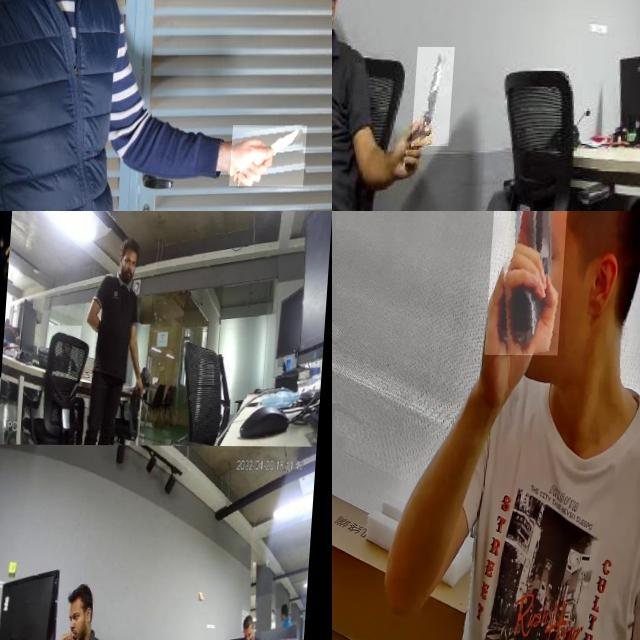-: (0, 211, 46, 438), (234, 125, 312, 186), (418, 46, 460, 146), (146, 396, 156, 419)
gun-knife-thesis - v11 Yolov5 augmented: (488, 211, 575, 354)
